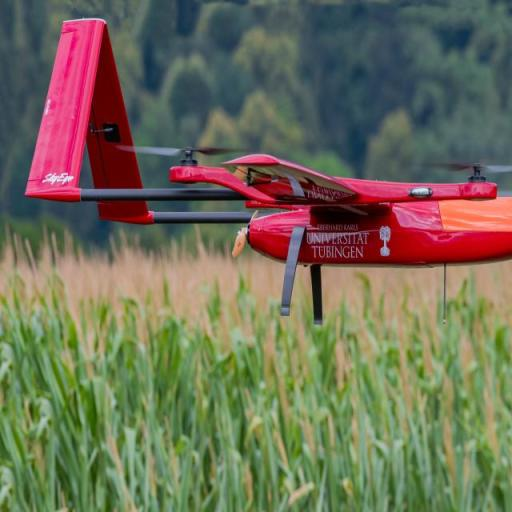uav: (20, 12, 512, 346)
